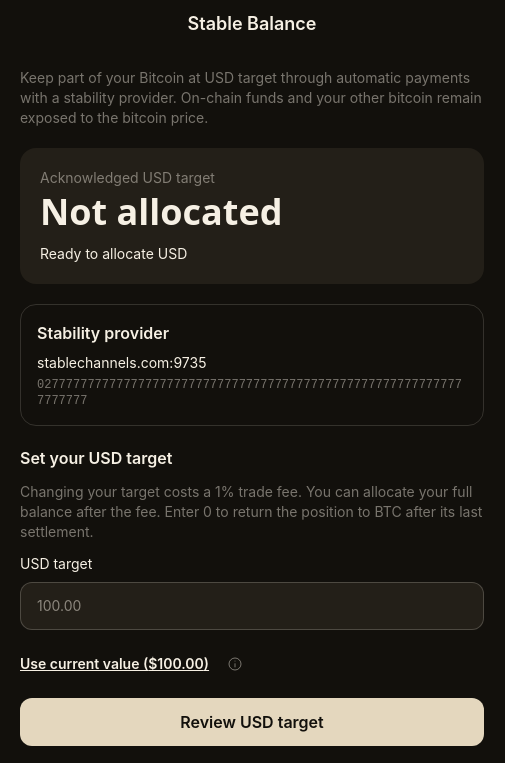
Test: Stable Balance › keeps the entered target when fresh prices are unavailable
The width and height of the screenshot is (505, 763).
In the field labelled "USD target": (252, 606) x1=20 y1=582 x2=484 y2=630, type "50.00"
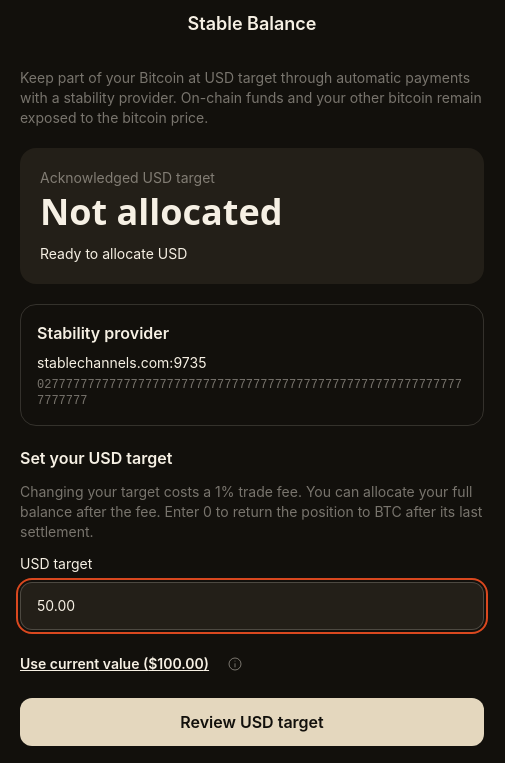
Click the button "Use current value ($100.00)": (115, 664) x1=20 y1=642 x2=209 y2=686
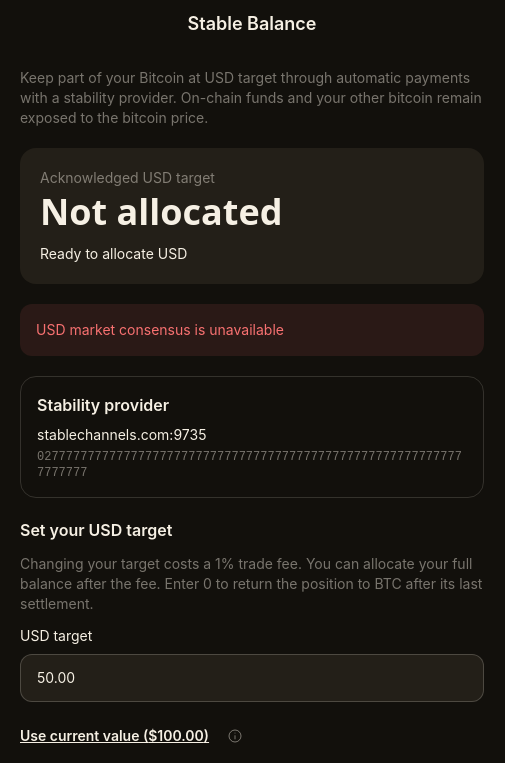
Expected: the message "USD market consensus is unavailable" is shown, x1=20 y1=304 x2=484 y2=356
